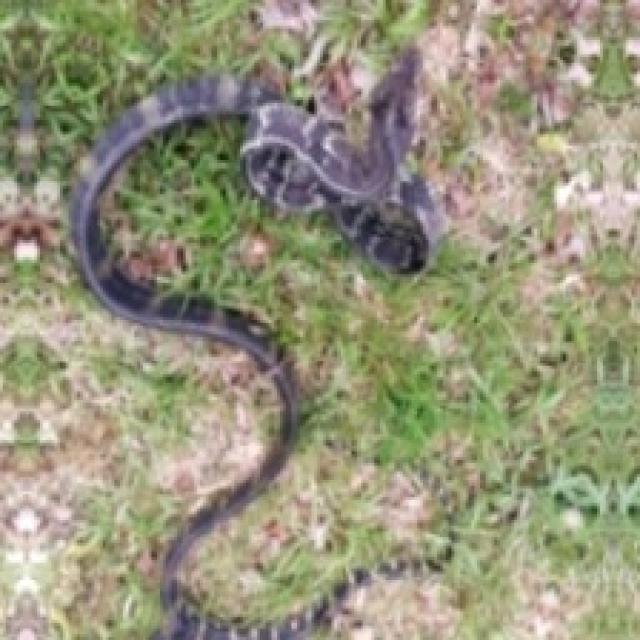dog-toothed cat snake: (71, 46, 443, 637)
